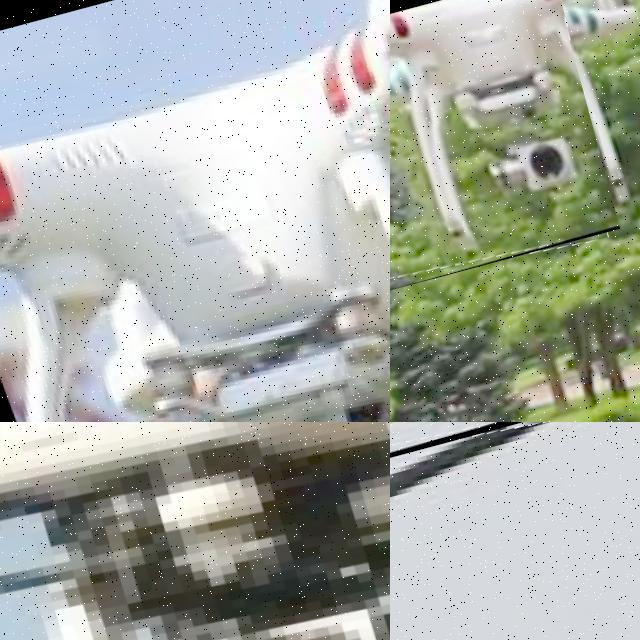drone: (0, 0, 390, 422), (0, 422, 390, 640), (390, 0, 620, 301), (390, 422, 639, 556)
